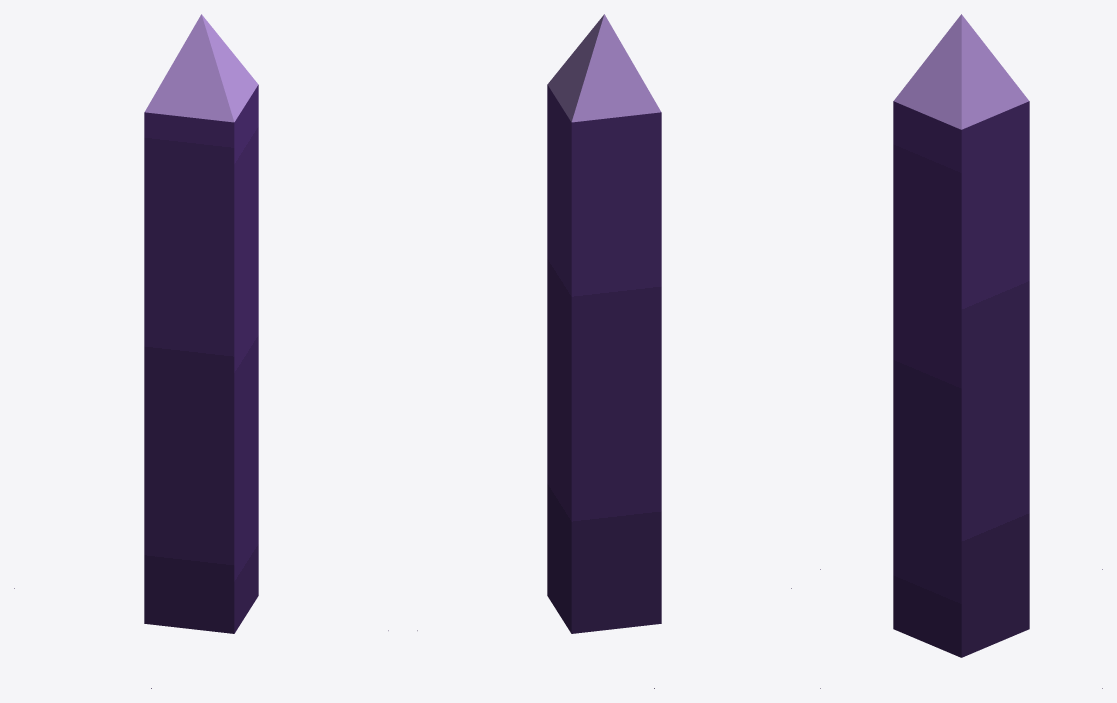
File: wall_crystal.glb
The picture shows the model from 3 angles, left to right: view 1: azimuth 30°, elevation 25°; view 2: azimuth 150°, elevation 25°; view 3: azimuth 270°, elevation 25°; orthographic projection. The views are drawn at different scales.
Size of the model in its own units: 1 by 2.4 by 1.
Materials: 1 (1 with a texture image).
